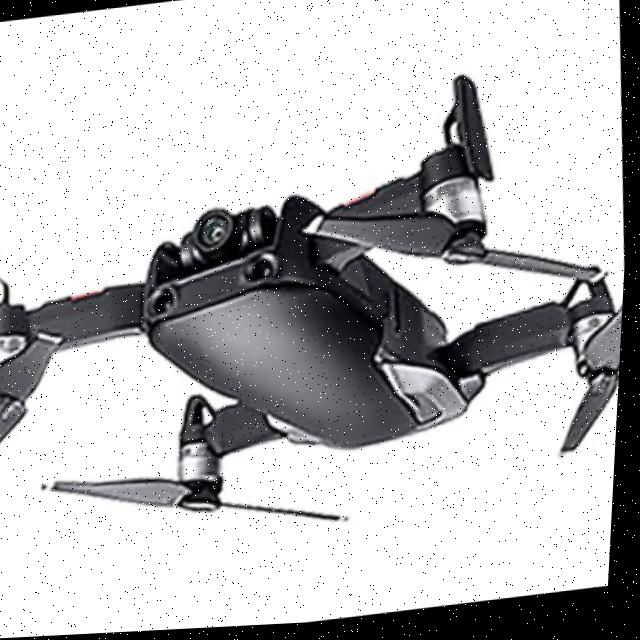drones: (0, 32, 638, 580)
